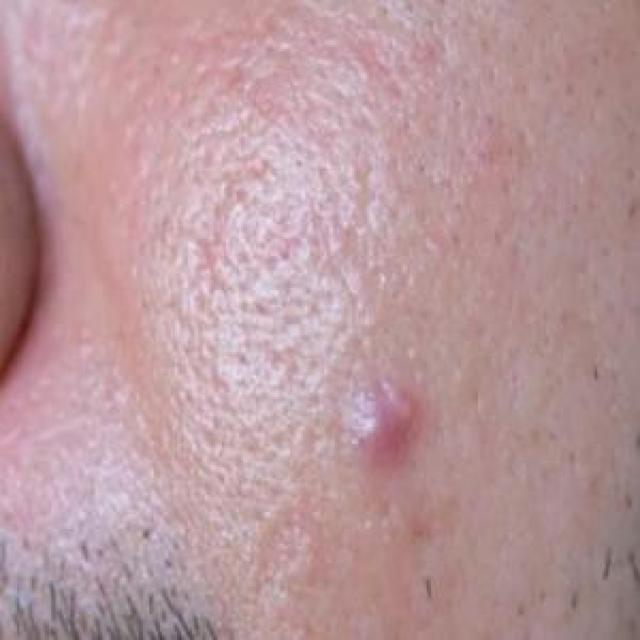Oily-Skin: (14, 54, 353, 497)
